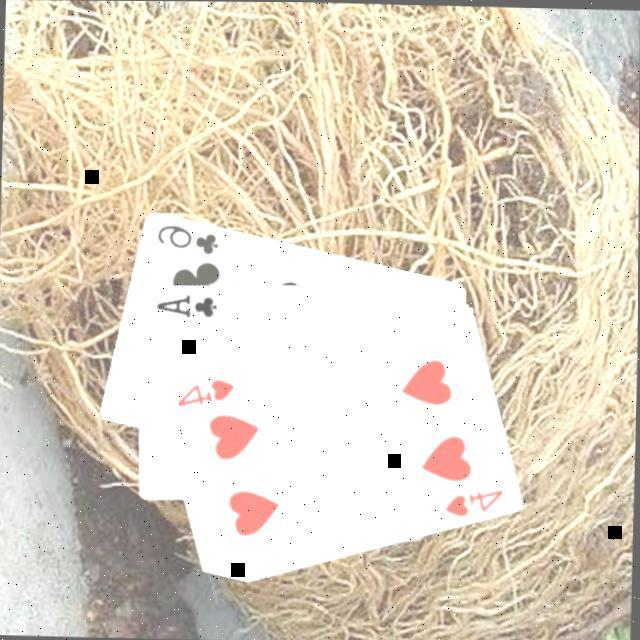4H: (174, 372, 240, 409), (443, 482, 508, 519)
6C: (154, 219, 223, 256)
AC: (154, 288, 222, 318)
